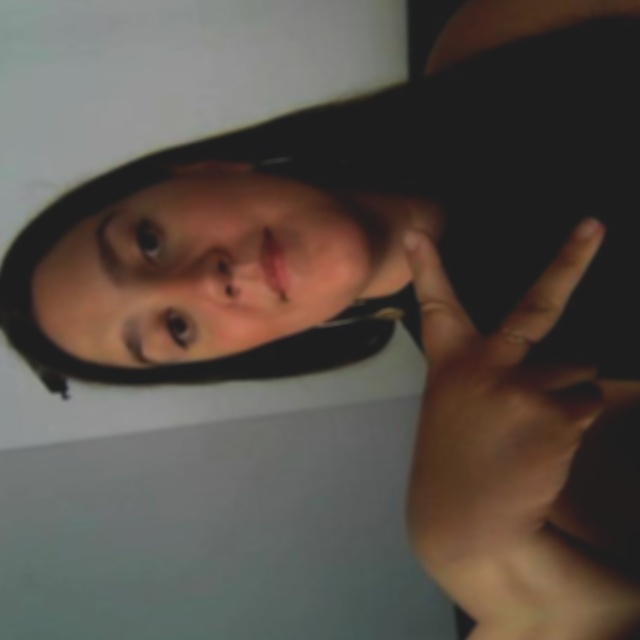Scissors: (361, 230, 640, 595)
